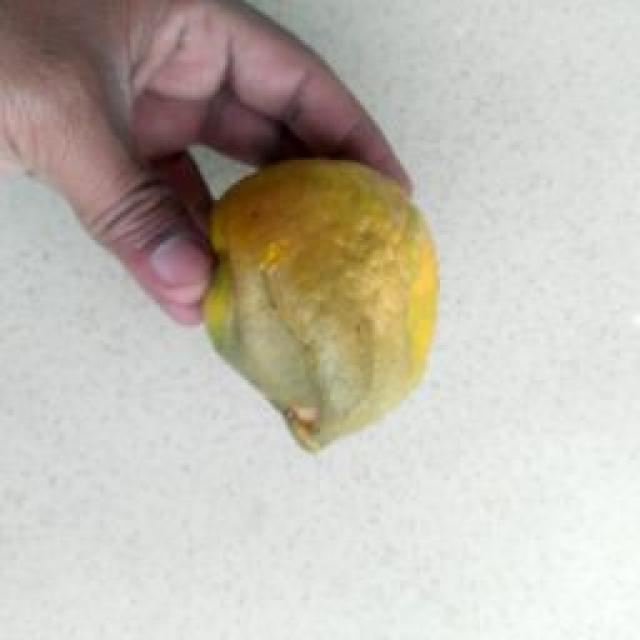Bad_Orange: (204, 159, 439, 449)
